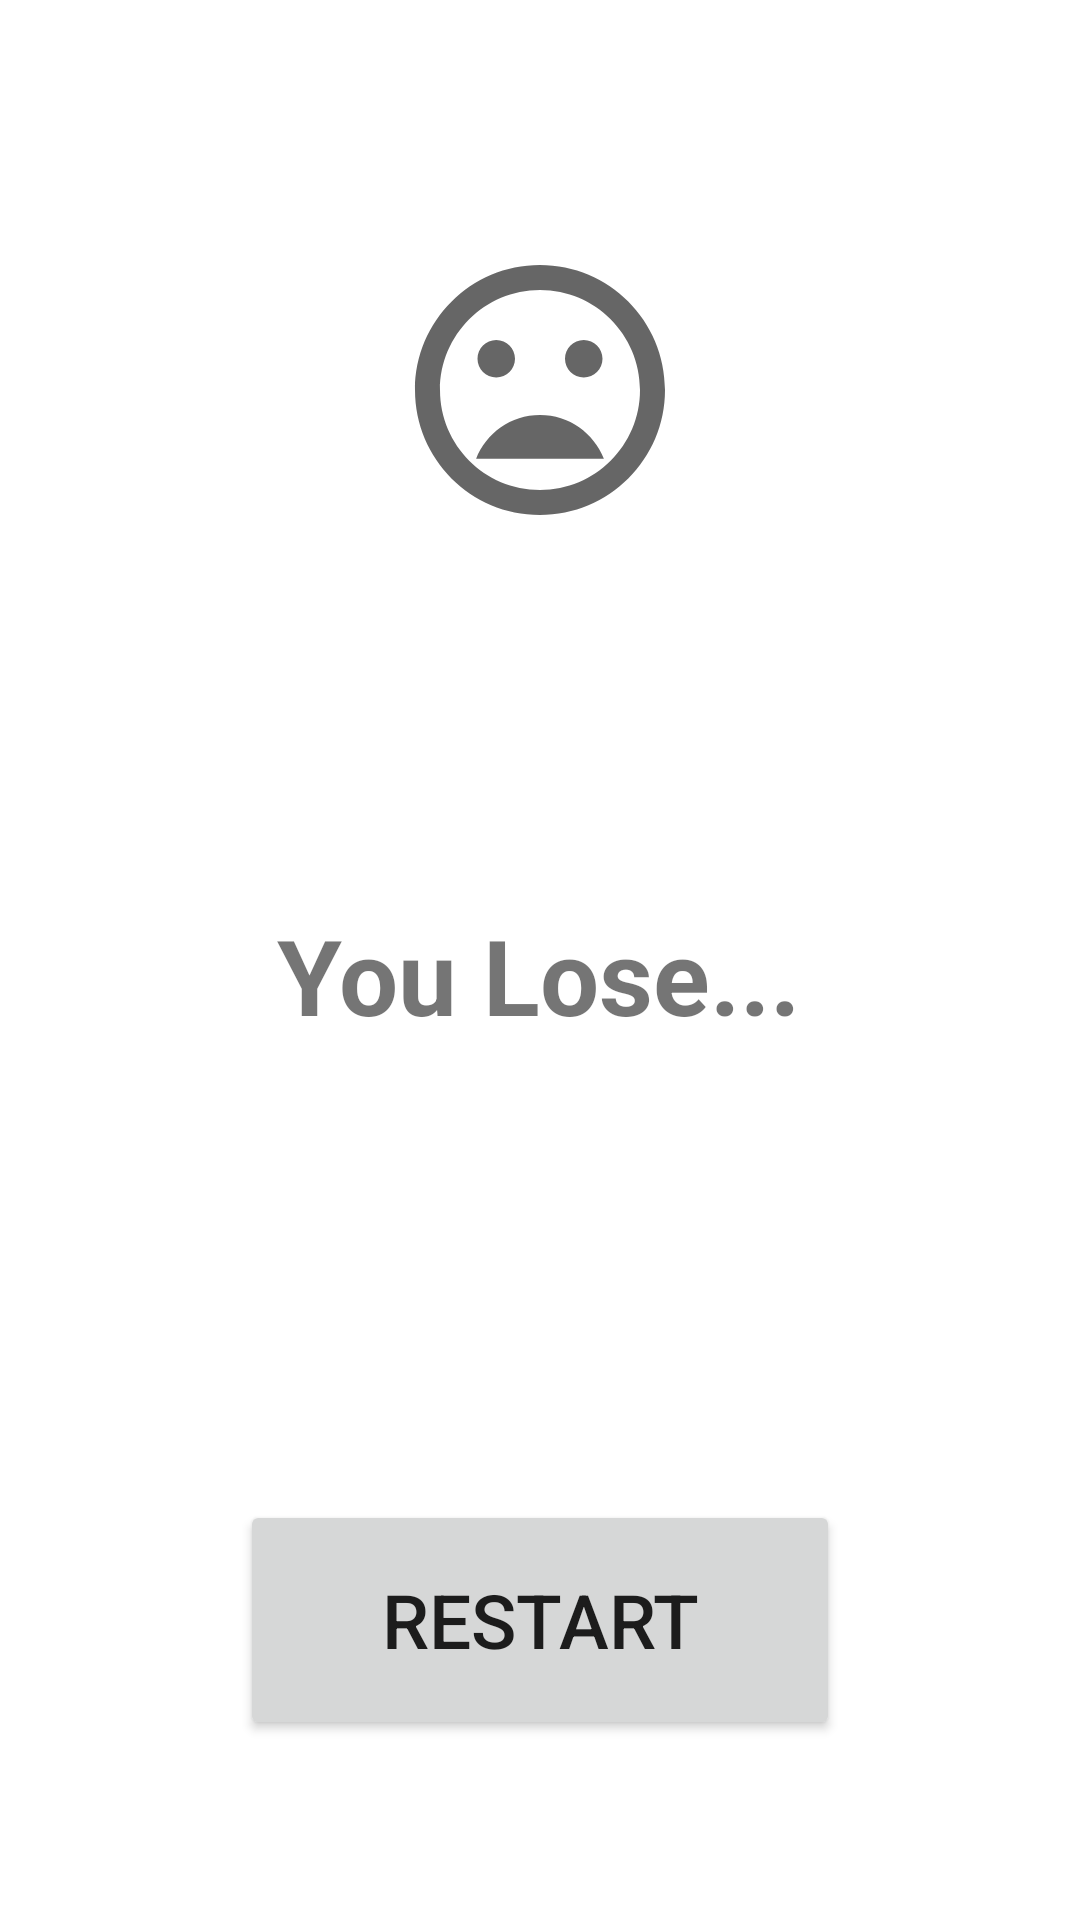

Screen size 1080×1920. Icon name, then its center in pixels as (x,y):
bad: (540,390)
